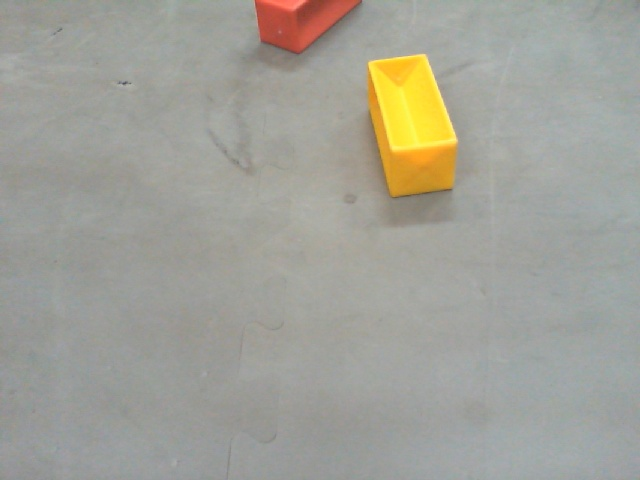RedSample: (251, 1, 358, 54)
YellowSample: (366, 51, 459, 203)
